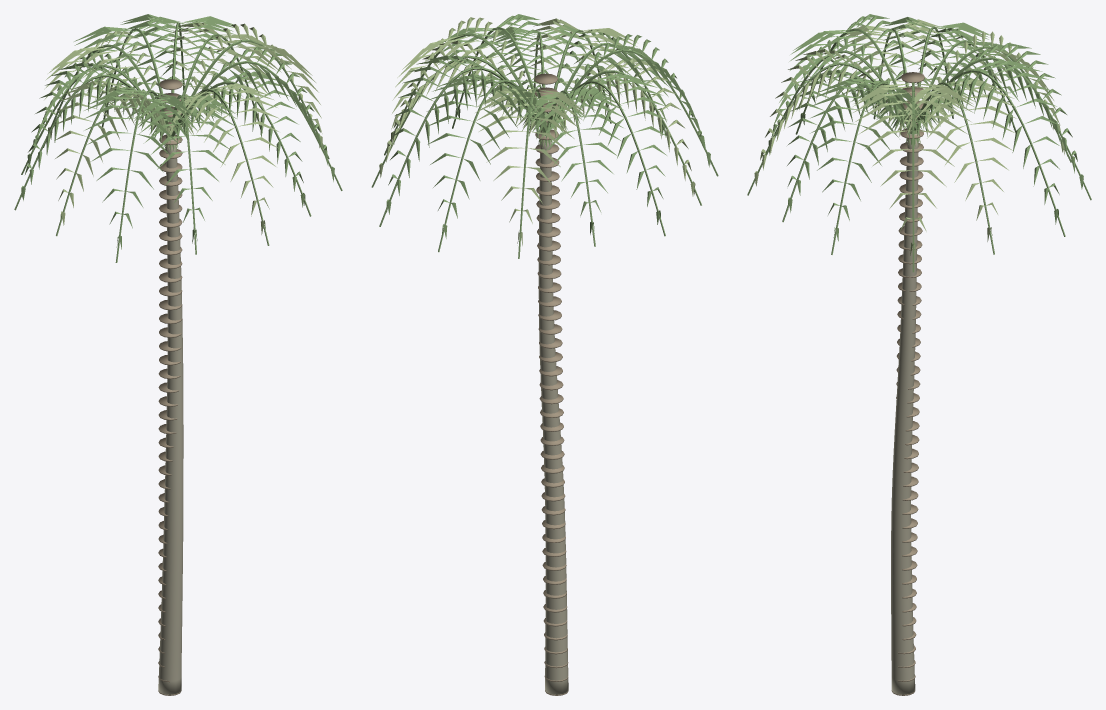
The model's file is grove-specimen-7.glb.
3 renders of one model, left to right at view 1: azimuth 30°, elevation 25°; view 2: azimuth 150°, elevation 25°; view 3: azimuth 270°, elevation 25°, orthographic. The views are drawn at different scales.
Parts seen in each view (by area): view 1: grove-specimen-7; view 2: grove-specimen-7; view 3: grove-specimen-7.
Boxes of the visible parts, bbox=[...] form: grove-specimen-7: bbox=[14, 14, 342, 695]; grove-specimen-7: bbox=[371, 14, 718, 695]; grove-specimen-7: bbox=[747, 14, 1091, 695].
Bounding box in the file's own units: 4.99 × 10.16 × 4.91.
